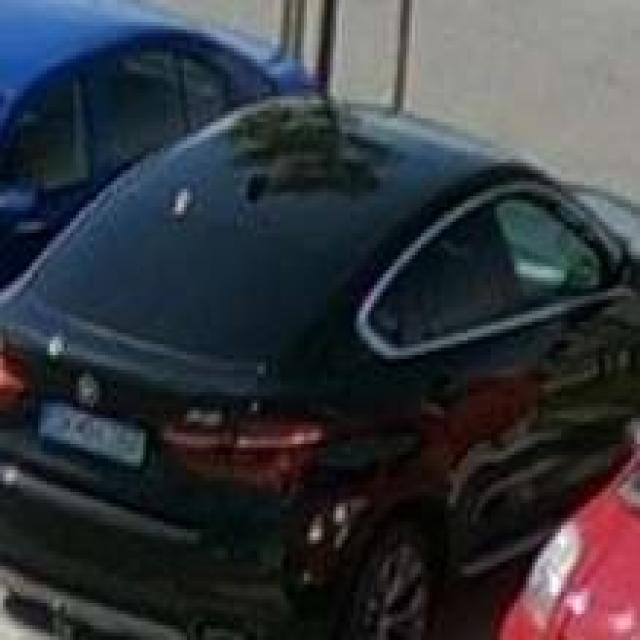Car: (87, 145, 549, 609), (0, 11, 196, 233), (552, 503, 637, 640)
